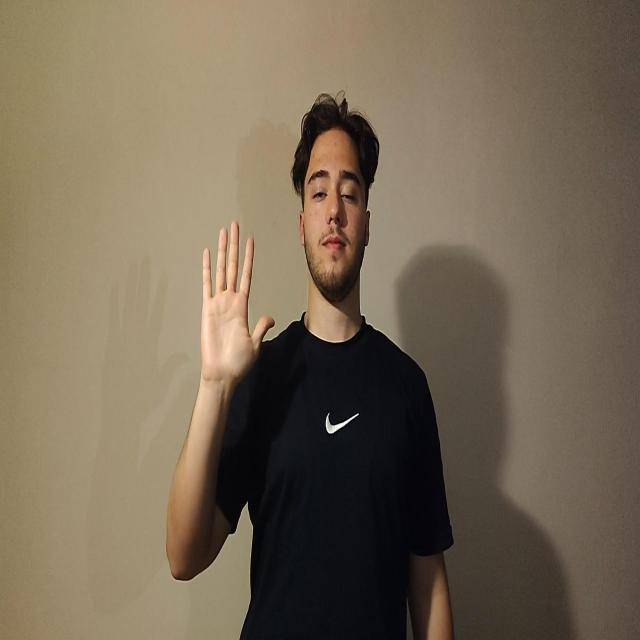hello: (199, 220, 275, 387)
